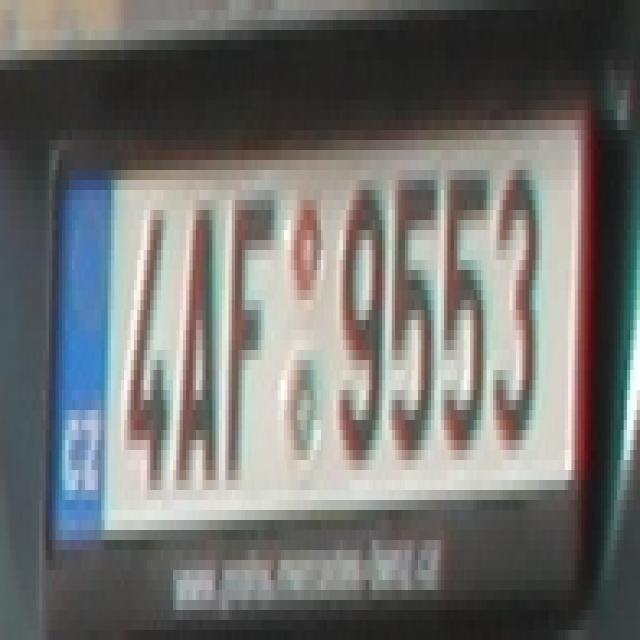3: (490, 170, 542, 450)
4: (118, 190, 166, 480)
5: (386, 170, 438, 460), (441, 150, 486, 440)
9: (330, 170, 382, 450)
A: (167, 190, 216, 480)
F: (226, 190, 274, 480)
